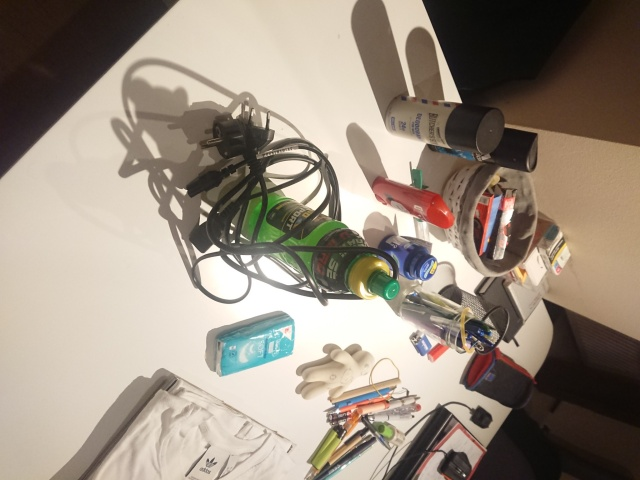Vindi Iso Sport Lemon-Grapefruit 500mL: (245, 195, 401, 302)
